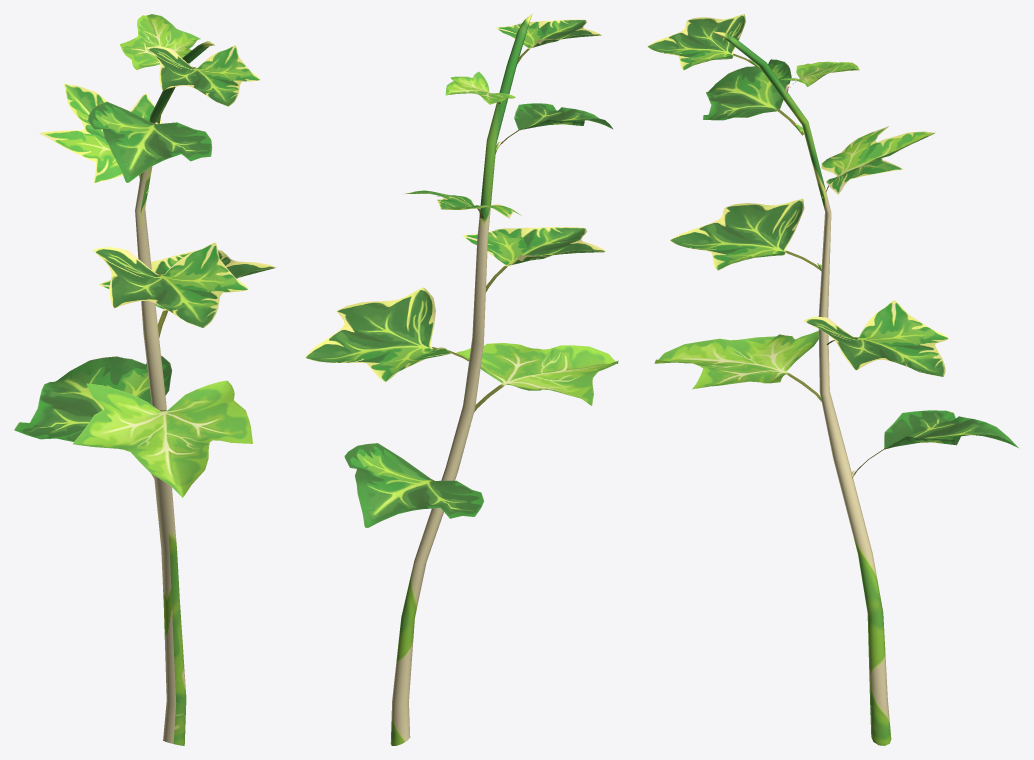
File: Plant-3.fbx
3 renders of one model, left to right at view 1: azimuth 30°, elevation 25°; view 2: azimuth 150°, elevation 25°; view 3: azimuth 270°, elevation 25°, orthographic. The views are drawn at different scales.
Visible parts, largest first — view 1: Plant-3; view 2: Plant-3; view 3: Plant-3.
Part boxes in pixels (x1,y1,x2,y2): Plant-3: (14,14,276,745); Plant-3: (305,14,618,745); Plant-3: (647,14,1018,745).
Size of the model in its own units: 40.36 by 122 by 59.77.
Materials: 2 (2 with a texture image).
